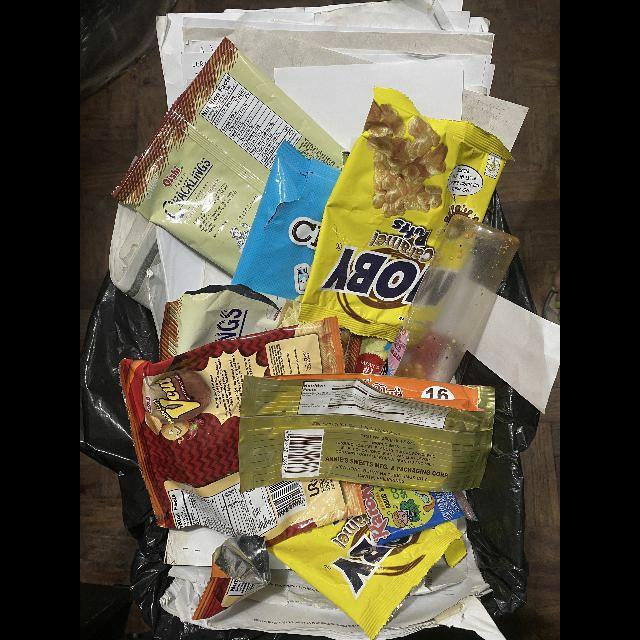food_wrapper: (118, 317, 364, 621), (111, 37, 350, 283), (296, 84, 513, 343), (239, 374, 496, 492), (232, 138, 341, 306), (155, 285, 283, 361)
paper: (160, 515, 504, 640), (156, 1, 495, 112), (275, 61, 463, 154), (470, 293, 560, 416), (156, 223, 232, 303), (108, 202, 161, 308), (163, 523, 231, 566), (147, 264, 166, 334), (168, 565, 211, 585)
plastic_bottle: (378, 217, 517, 381)
